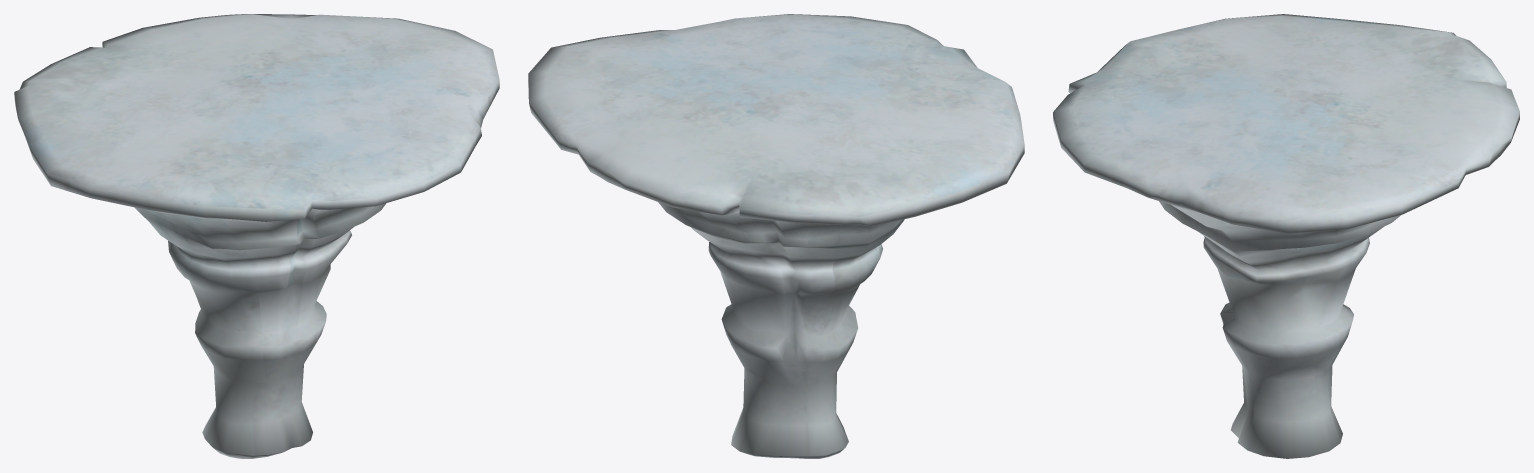
The model's file is P_RockDesert_Layered06.obj.
3 renders of one model, left to right at view 1: azimuth 30°, elevation 25°; view 2: azimuth 150°, elevation 25°; view 3: azimuth 270°, elevation 25°, orthographic. The views are drawn at different scales.
Bounding box in the file's own units: 42.24 × 31.2 × 37.93.
